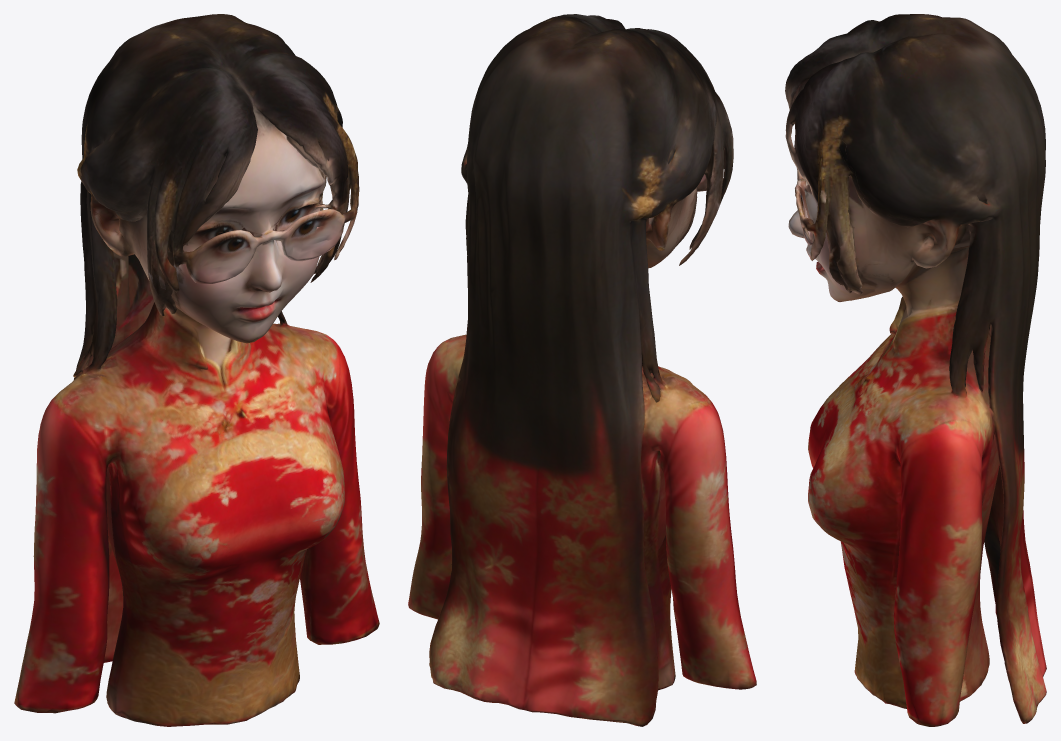
Rendered from refined_model-girl.glb.
The picture shows the model from 3 angles, left to right: view 1: azimuth 30°, elevation 25°; view 2: azimuth 150°, elevation 25°; view 3: azimuth 270°, elevation 25°; orthographic projection. The views are drawn at different scales.
Bounding box in the file's own units: 1.13 × 2 × 0.7331.
1 material, 1 textured.
